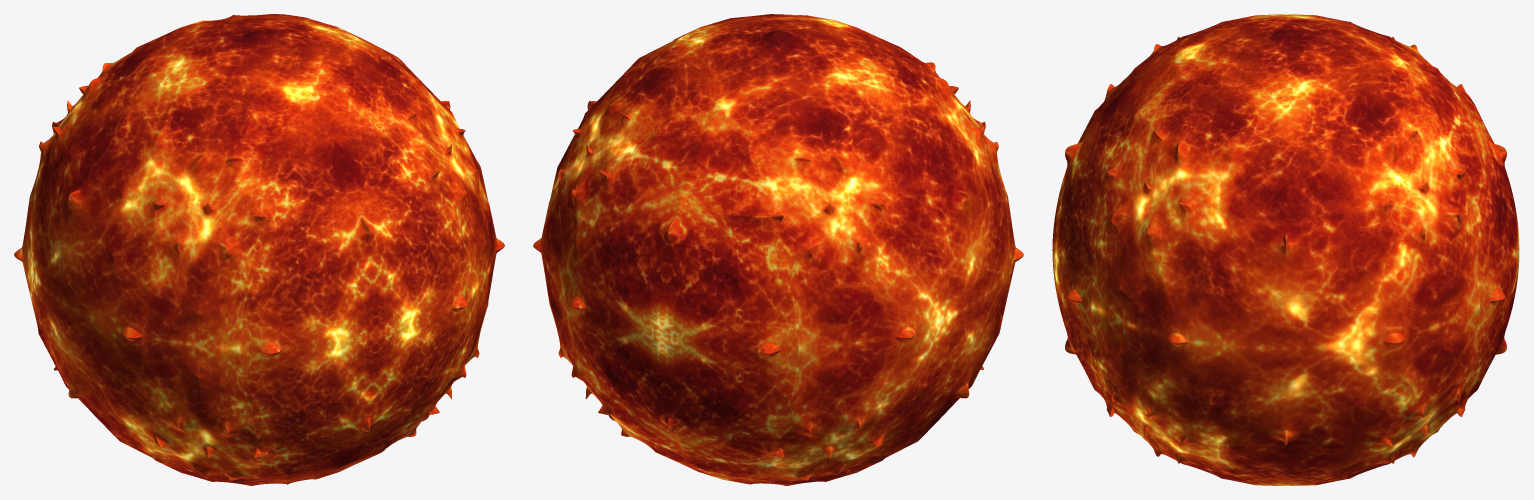
File: wpiev1489.glb
3 views of the same model, side by side, from view 1: azimuth 30°, elevation 25°; view 2: azimuth 150°, elevation 25°; view 3: azimuth 270°, elevation 25° (orthographic).
Bounding box in the file's own units: 1.84 × 1.9 × 1.84.
1 material, 1 textured.
